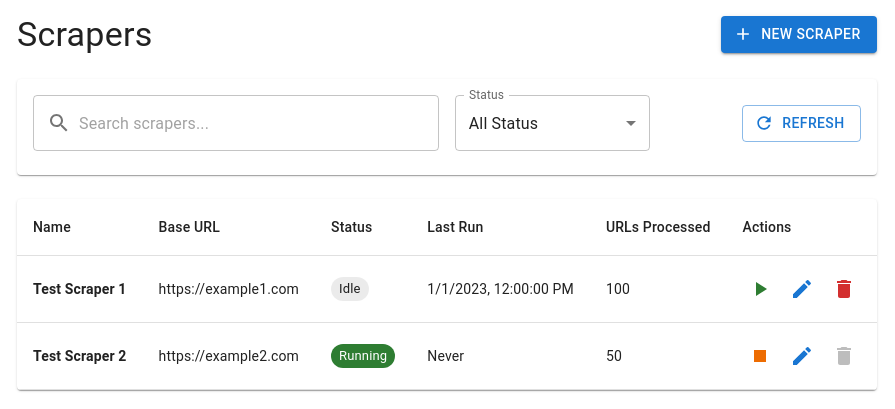
ScraperList Component › filters scrapers by search term
Enter search term
Type "Scraper 1" into the field with placeholder "Search scrapers...".
click(259, 124); type("Scraper 1")  # box [79, 96, 439, 152]
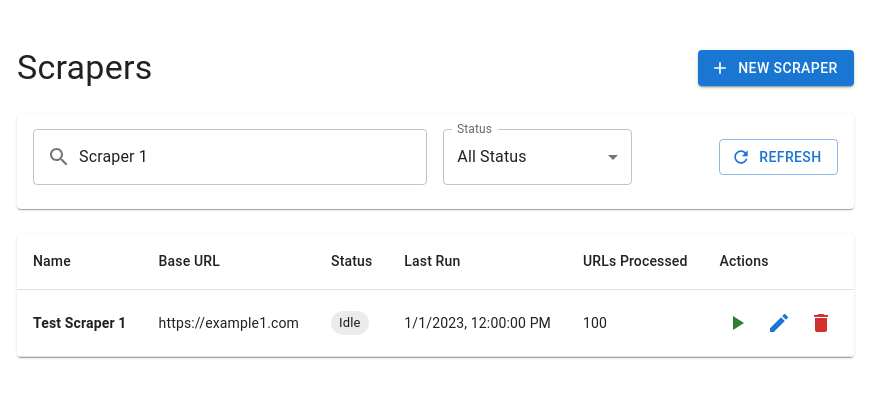
Expected: the link "Test Scraper 1" is shown, [33, 315, 127, 331]
Now the link "Test Scraper 2" is gone
Clear search term
Clear the field with placeholder "Search scrapers..." at (253, 157), box [79, 129, 427, 185]
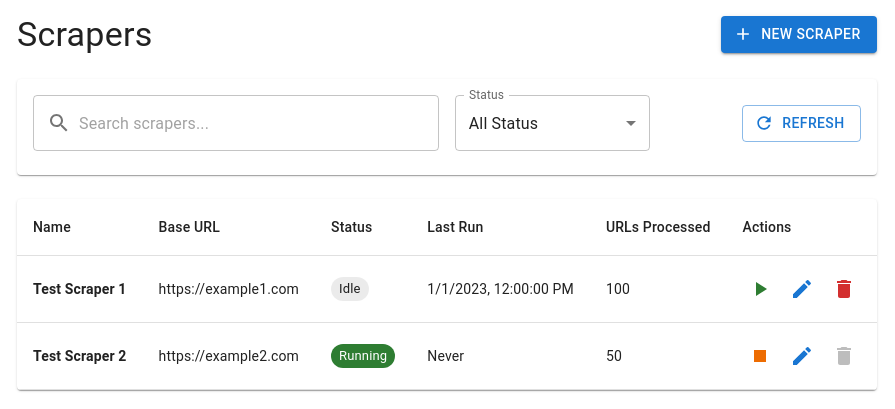
Expected: the link "Test Scraper 1" is shown, [33, 282, 127, 298]
Now the link "Test Scraper 2" is shown, box [33, 348, 127, 364]
